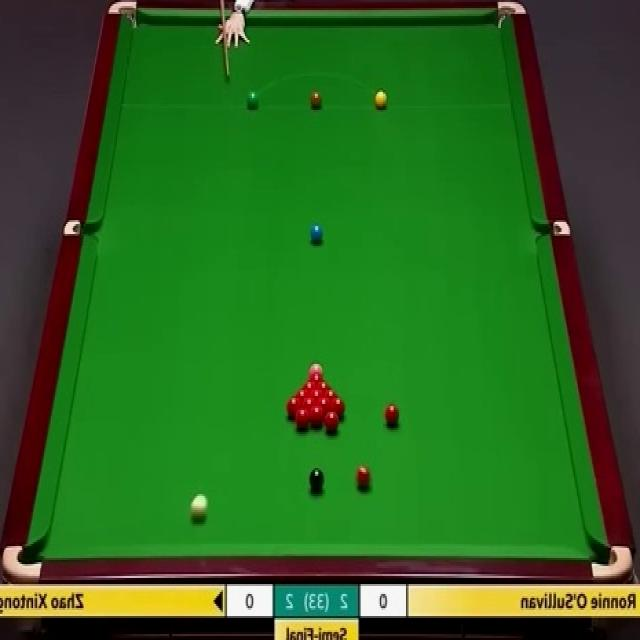black-ball: (310, 467, 326, 491)
blue-ball: (310, 225, 324, 242)
brown-ball: (310, 91, 322, 109)
green-ball: (245, 88, 260, 110)
pink-ball: (308, 364, 323, 378)
red-ball: (356, 464, 372, 490), (324, 410, 342, 433), (309, 405, 324, 427), (385, 404, 400, 426), (288, 397, 303, 418), (332, 397, 345, 419), (295, 410, 309, 430), (302, 398, 315, 419), (325, 389, 336, 401), (311, 390, 322, 402), (312, 375, 322, 387)
white-ball: (190, 494, 208, 522)
yellow-ball: (375, 90, 387, 110)
